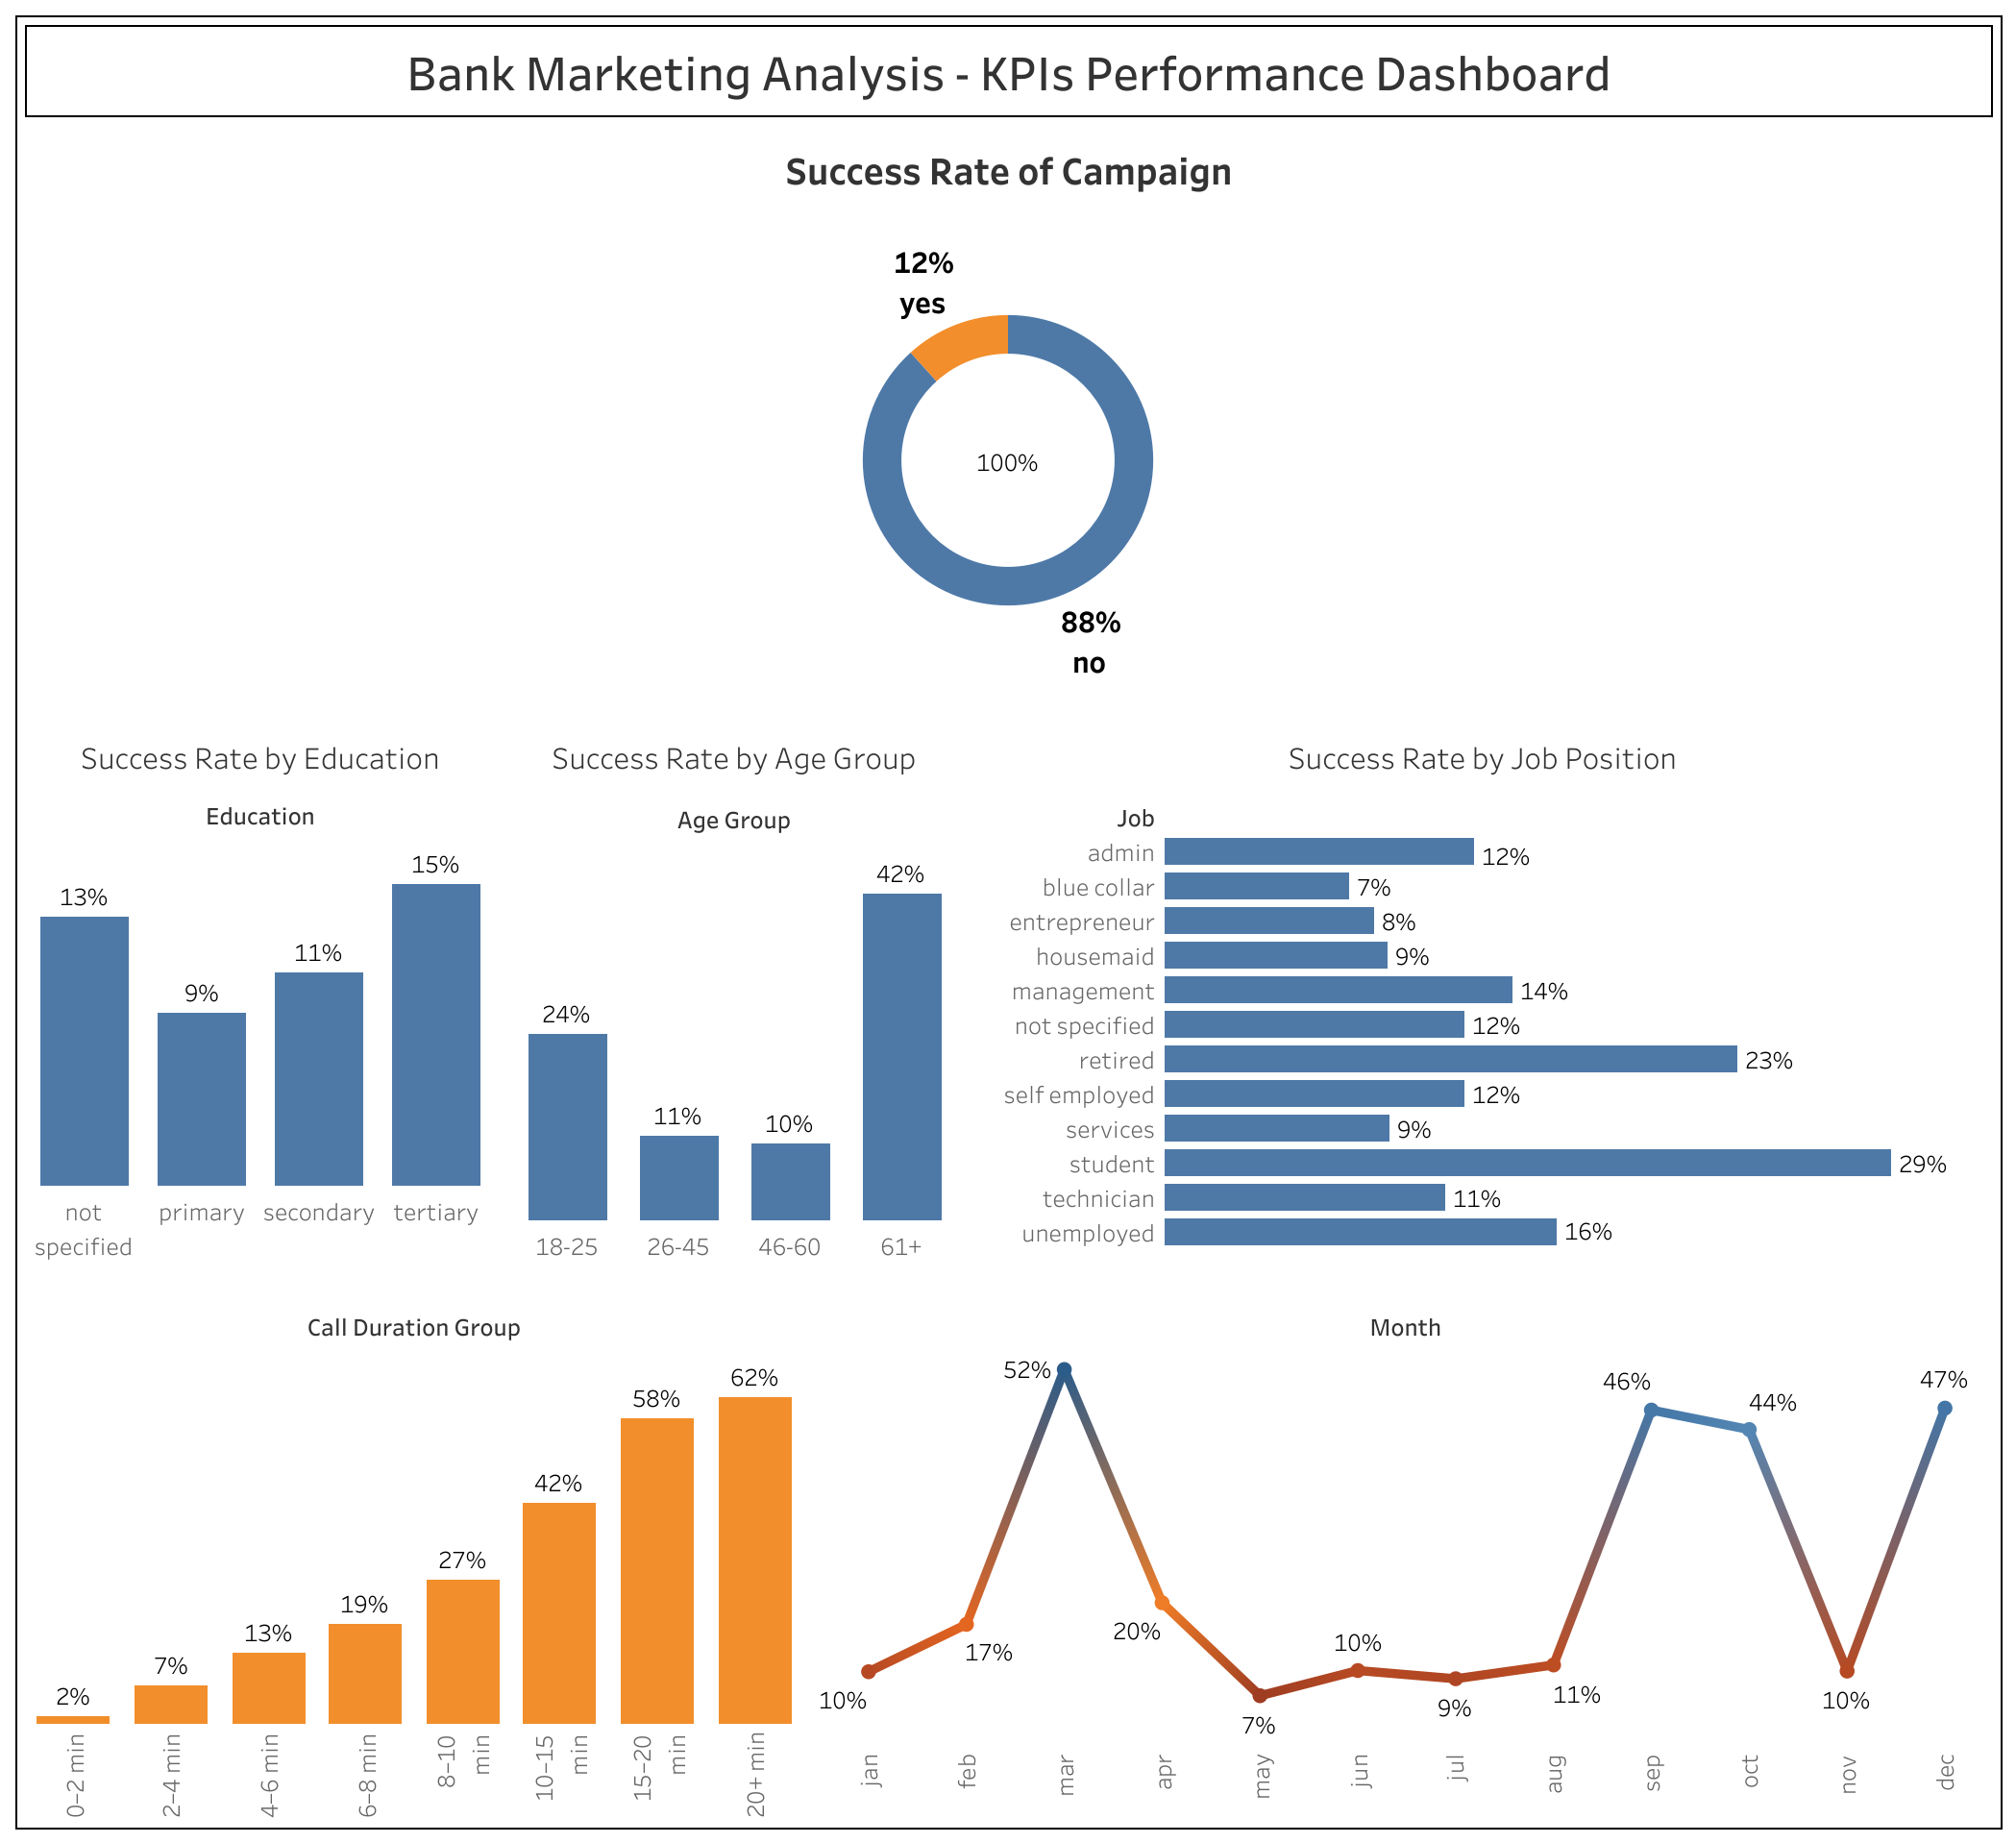

What the dashboard file says about the page in this screenshot:
{"tool":"tableau","page":{"name":"KPIs Performance Dashboard","canvas":[1000,1000],"units":"permille","ordinal":0},"visuals":[{"type":"title","box":[8.6,9.4,982.9,58.3]},{"type":"worksheet","title":"Success Rate","mark":"Pie","rows":["Calculation_3487826843955863553","Calculation_3487826843955863553"],"box":[8.6,67.7,982.9,320.8]},{"type":"worksheet","title":"Success Rate by Education","mark":"Bar","rows":["Calculation_3122613059353907200"],"cols":["Education"],"box":[8.6,388.5,241,300]},{"type":"worksheet","title":"Success Rate by Age","mark":"Bar","rows":["Calculation_3122613059353907200"],"cols":["Age_Group"],"box":[249.5,388.5,228.6,300]},{"type":"worksheet","title":"Success Rate by Job","mark":"Bar","rows":["Job"],"cols":["Calculation_3122613059353907200"],"box":[478.1,388.5,513.4,300]},{"type":"worksheet","title":"Success Rate by Call Duration","mark":"Bar","rows":["Calculation_3122613059353907200"],"cols":["Calculation_4081316836231061504"],"box":[8.6,688.5,393.1,302.1]},{"type":"worksheet","title":"Success Rate vs. Date","mark":"Line","rows":["Calculation_3122613059353907200"],"cols":["Month"],"box":[401.7,688.5,589.7,302.1]}]}

Visuals, with their boxes on the dashboard's canvas, which has no fixed pixel size, in thousandths of its width and height (x1, y1, x2, y2). These are canvas units, not pixel positions in the 2016x1843 screenshot, which may show the page scaled, cropped or inside an application window:
title: [9, 9, 992, 68]
"Success Rate" worksheet (Pie marks): [9, 68, 992, 388]
"Success Rate by Education" worksheet (Bar marks): [9, 388, 250, 688]
"Success Rate by Age" worksheet (Bar marks): [250, 388, 478, 688]
"Success Rate by Job" worksheet (Bar marks): [478, 388, 992, 688]
"Success Rate by Call Duration" worksheet (Bar marks): [9, 688, 402, 991]
"Success Rate vs. Date" worksheet (Line marks): [402, 688, 991, 991]
